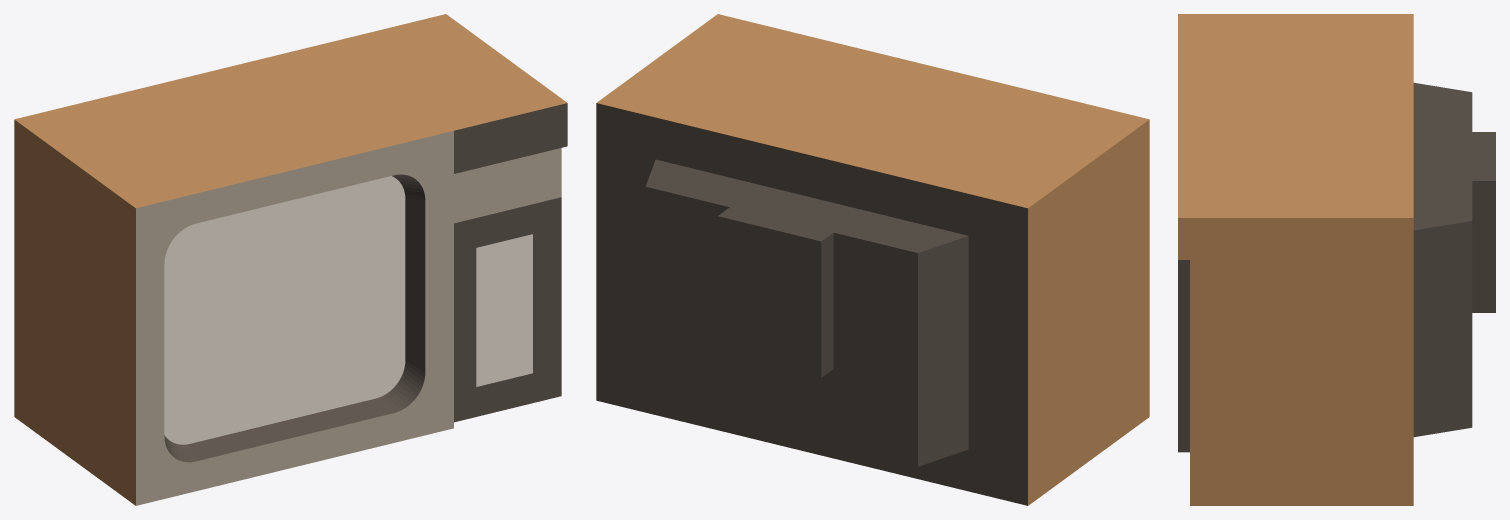
The model's file is kitTelevisionVintage.glb.
3 renders of one model, left to right at view 1: azimuth 30°, elevation 25°; view 2: azimuth 150°, elevation 25°; view 3: azimuth 270°, elevation 25°, orthographic. The views are drawn at different scales.
Parts seen in each view (by area): view 1: kitTelevisionVintage_wood, kitTelevisionVintage_metal, kitTelevisionVintage_metalMedium, kitTelevisionVintage_metalDark; view 2: kitTelevisionVintage_metalDark, kitTelevisionVintage_wood; view 3: kitTelevisionVintage_wood, kitTelevisionVintage_metalDark.
Part boxes in pixels (x1,y1,x2,y2): kitTelevisionVintage_wood: (14,14,566,505); kitTelevisionVintage_metal: (164,176,532,444); kitTelevisionVintage_metalMedium: (136,131,561,505); kitTelevisionVintage_metalDark: (164,103,567,462); kitTelevisionVintage_metalDark: (596,103,1027,505); kitTelevisionVintage_wood: (597,14,1149,505); kitTelevisionVintage_wood: (1178,14,1413,505); kitTelevisionVintage_metalDark: (1178,82,1495,452).
Bounding box in the file's own units: 0.82 × 0.54 × 0.54.
